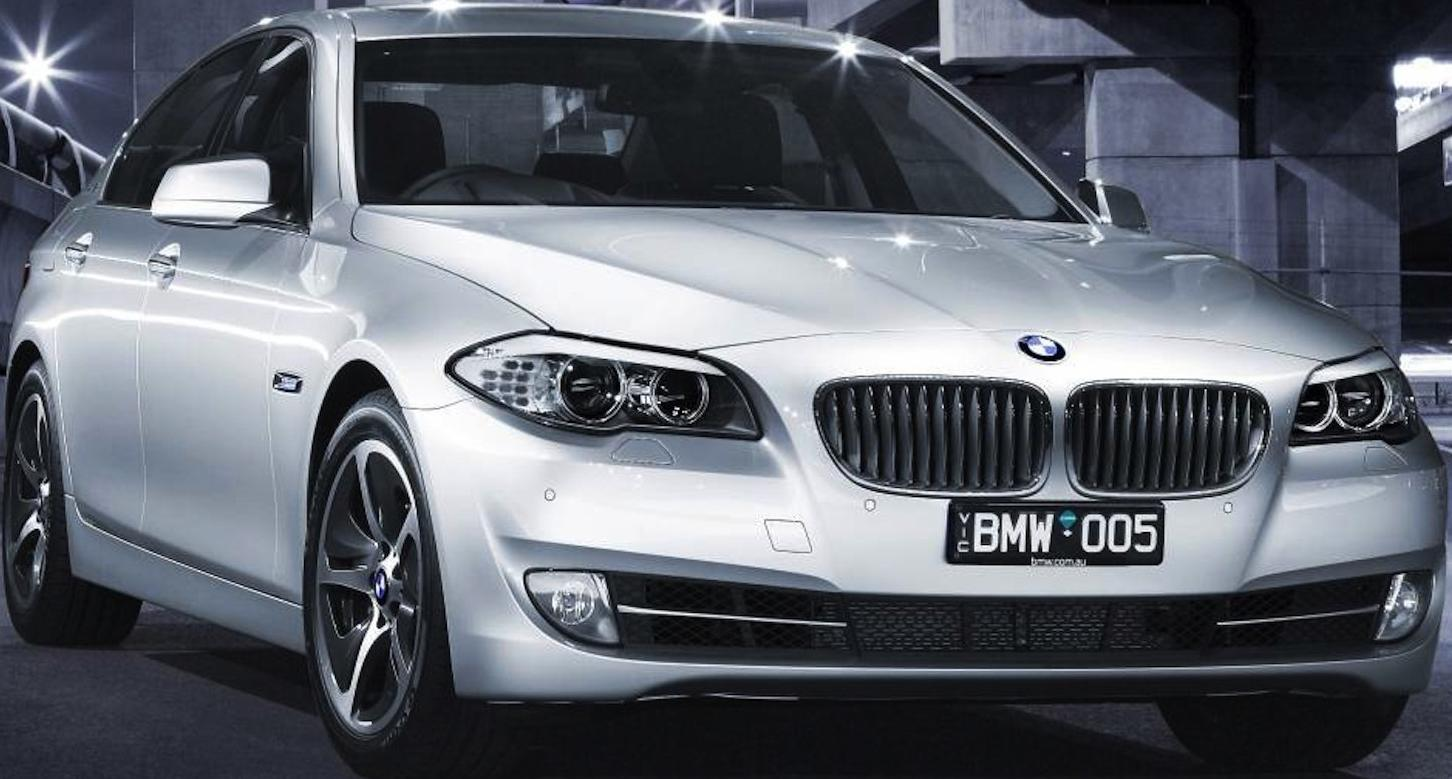front_view: (415, 275, 1450, 699)
headlight: (434, 293, 769, 456)
side_glass: (105, 35, 315, 232)
